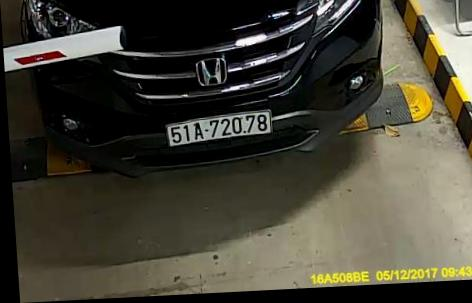License_Plate: (158, 104, 280, 154)
